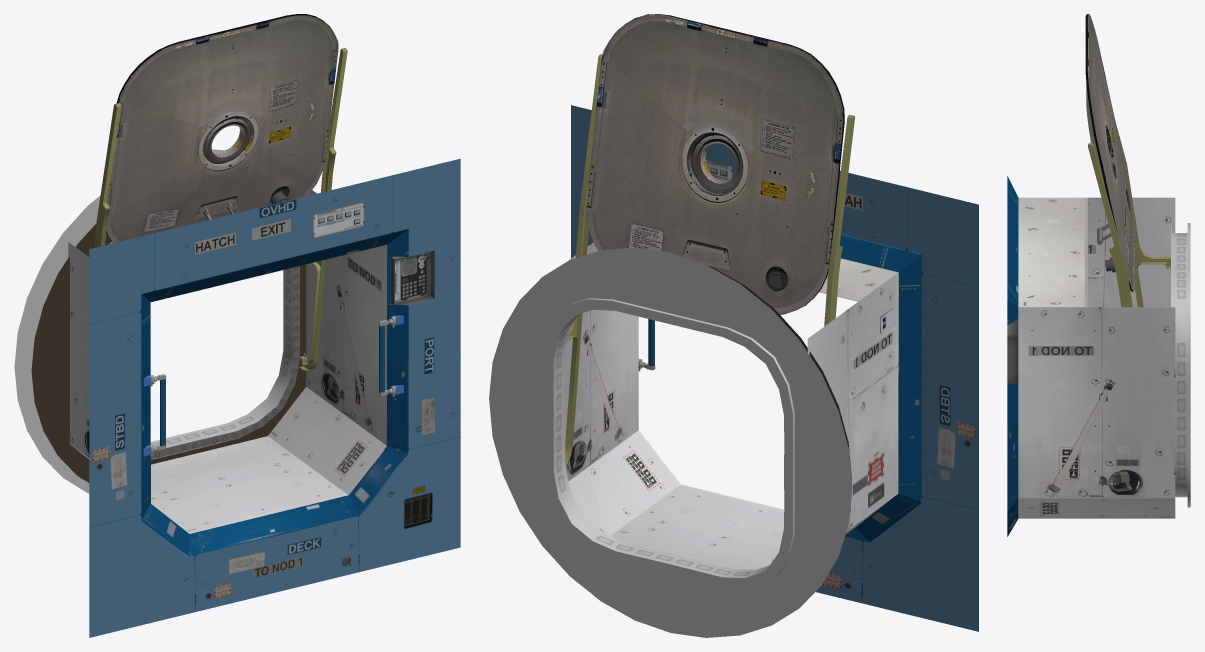
The model's file is US_Lab_AftEnd.C.obj.
3 renders of one model, left to right at view 1: azimuth 30°, elevation 25°; view 2: azimuth 150°, elevation 25°; view 3: azimuth 270°, elevation 25°, orthographic. The views are drawn at different scales.
Size of the model in its own units: 2.26 by 3.1 by 1.02.
